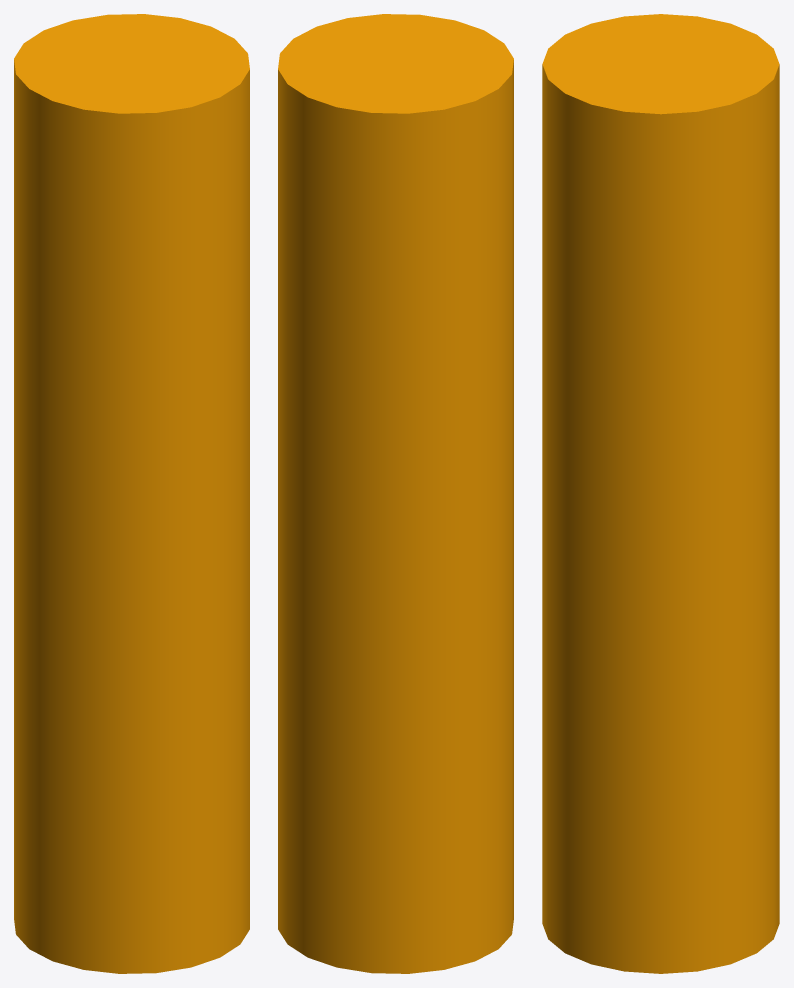
Rendered from Ratchet.gltf.
3 views of the same model, side by side, from view 1: azimuth 30°, elevation 25°; view 2: azimuth 150°, elevation 25°; view 3: azimuth 270°, elevation 25° (orthographic).
Parts seen in each view (by area): view 1: Ratchet; view 2: Ratchet; view 3: Ratchet.
Boxes of the visible parts, box(x1,y1,x2,y2) form: Ratchet: box(14, 14, 249, 973); Ratchet: box(278, 14, 513, 973); Ratchet: box(542, 14, 779, 973).
Size of the model in its own units: 0.05 by 0.2 by 0.05.
